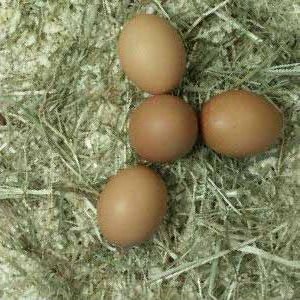egg: (199, 91, 284, 157), (98, 166, 166, 247), (118, 15, 184, 94), (129, 95, 198, 163)
